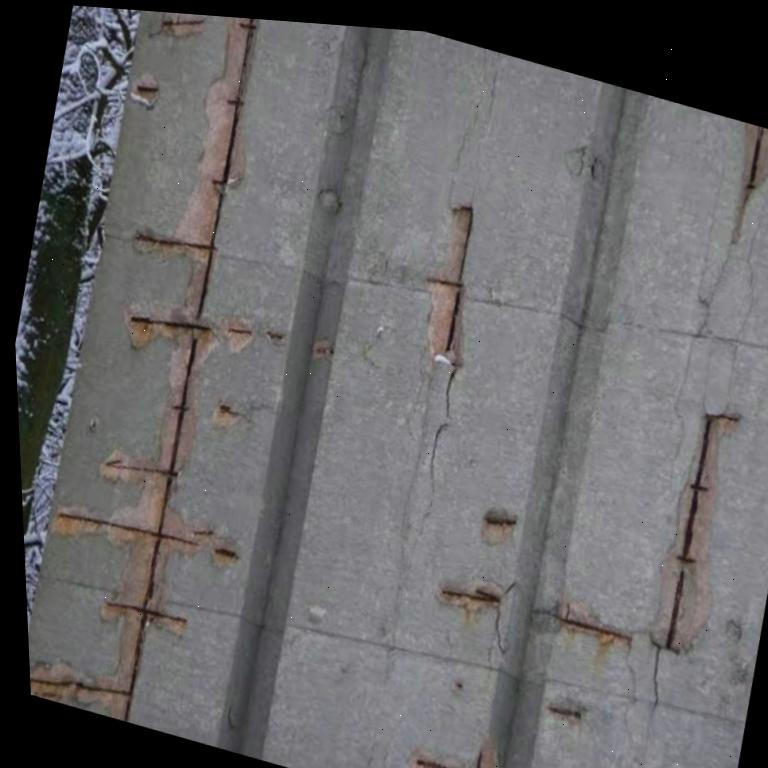exposed_rebar: (57, 19, 256, 723), (667, 417, 714, 649), (445, 208, 473, 354), (558, 616, 632, 647), (748, 127, 764, 188), (442, 589, 499, 604), (416, 758, 450, 768), (485, 516, 515, 527), (162, 19, 202, 27), (214, 547, 237, 558), (136, 86, 158, 94), (229, 329, 253, 335), (474, 753, 483, 768)
spalling: (30, 17, 254, 722), (654, 417, 736, 652), (428, 206, 473, 359), (734, 124, 768, 242), (554, 603, 631, 644), (408, 744, 497, 768), (439, 587, 501, 611), (481, 510, 516, 546), (161, 12, 204, 38), (129, 75, 159, 110), (226, 317, 253, 352), (213, 539, 239, 567), (213, 403, 242, 428), (265, 330, 284, 345)
